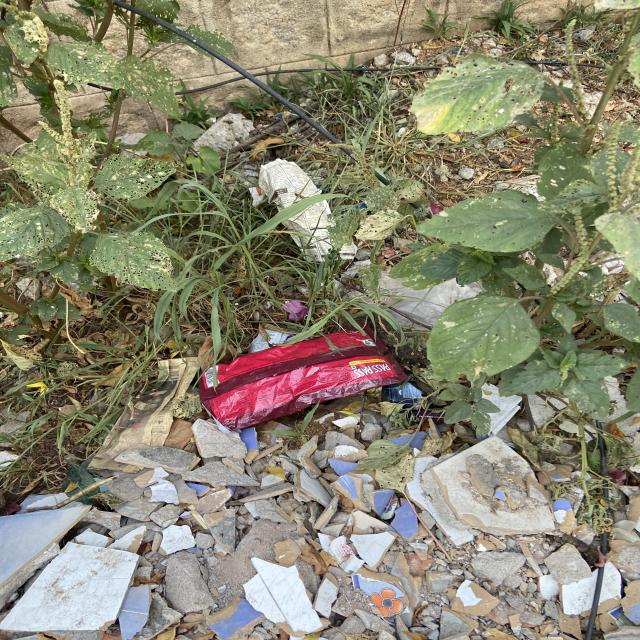giay: (89, 358, 197, 472), (258, 158, 321, 209), (283, 200, 332, 262), (339, 244, 357, 260)
giay_goi: (198, 327, 407, 430)
nhua: (380, 271, 482, 327), (392, 312, 426, 330)
